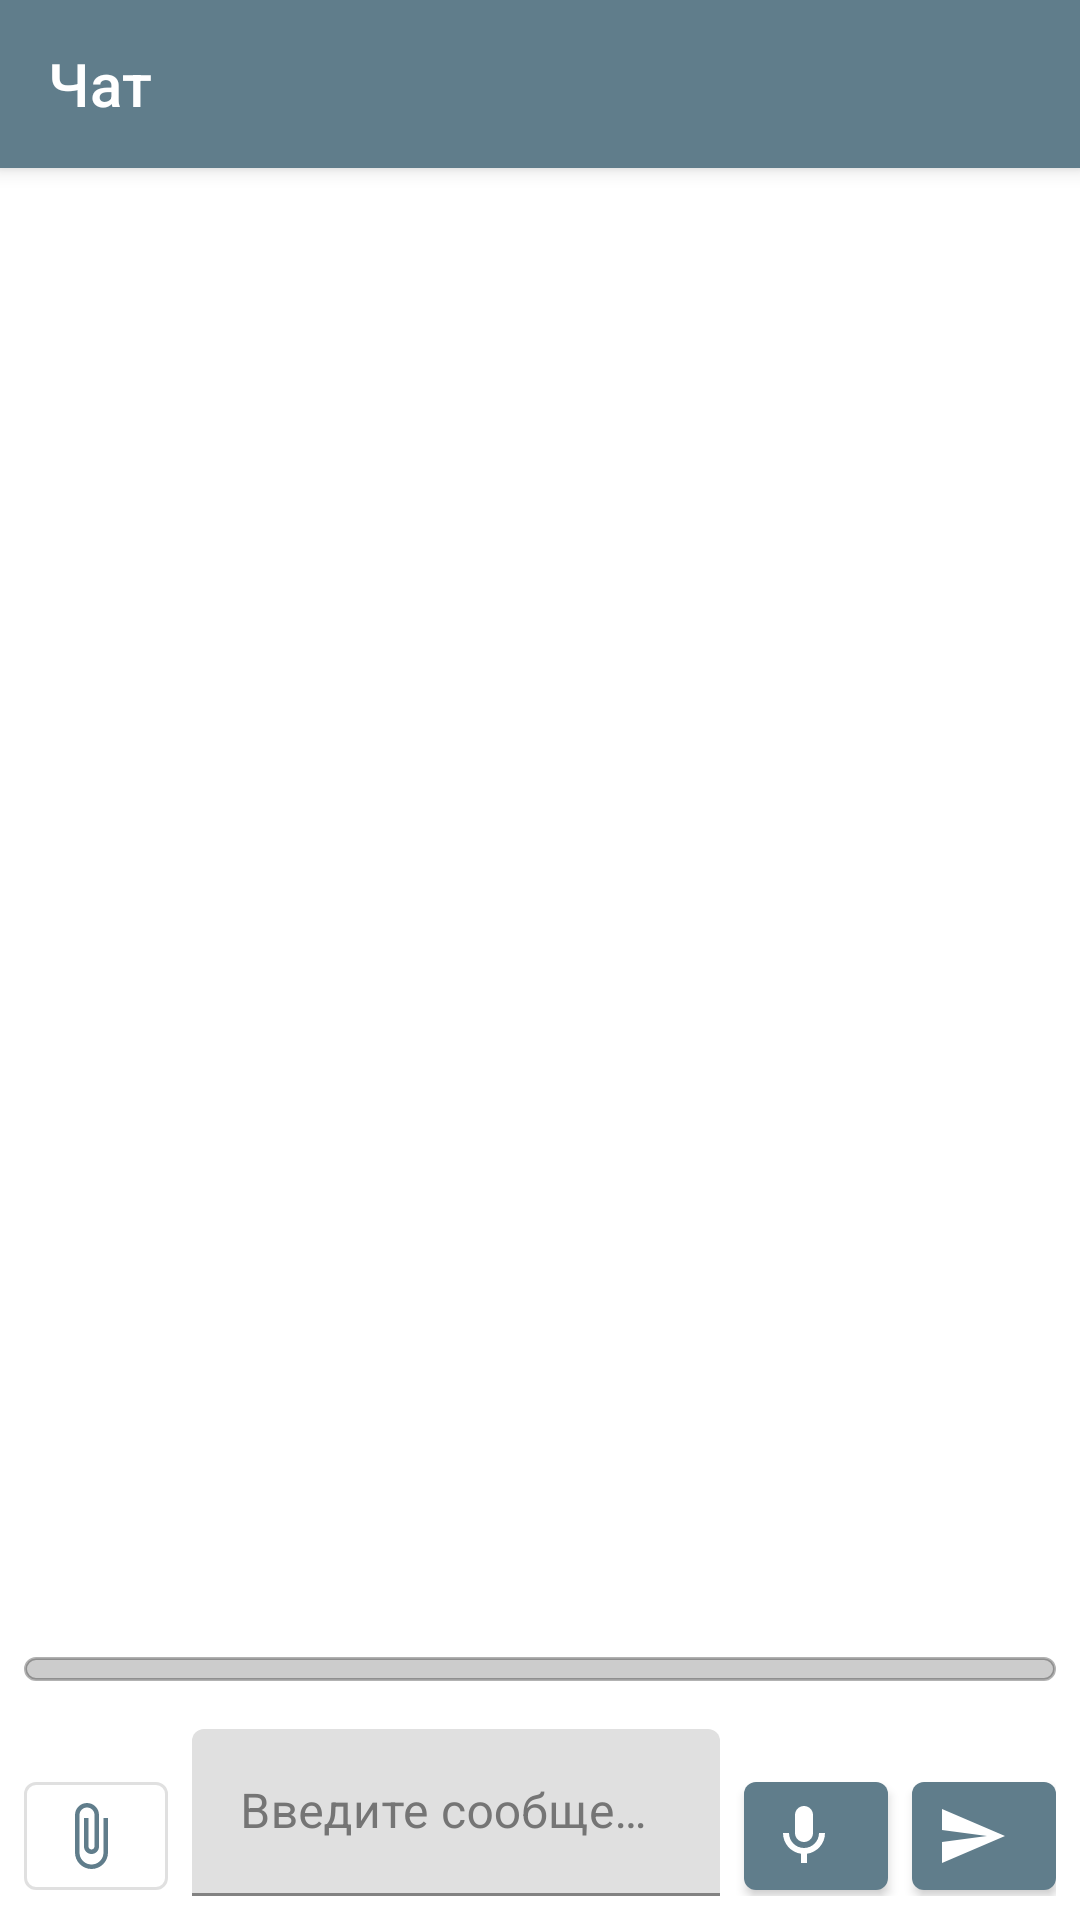

Where to tap for icons on this 1080w x 1920h app screen, as (x=x, y=y):
attach: (x=96, y=1836)
mic: (x=816, y=1839)
send: (x=984, y=1839)
